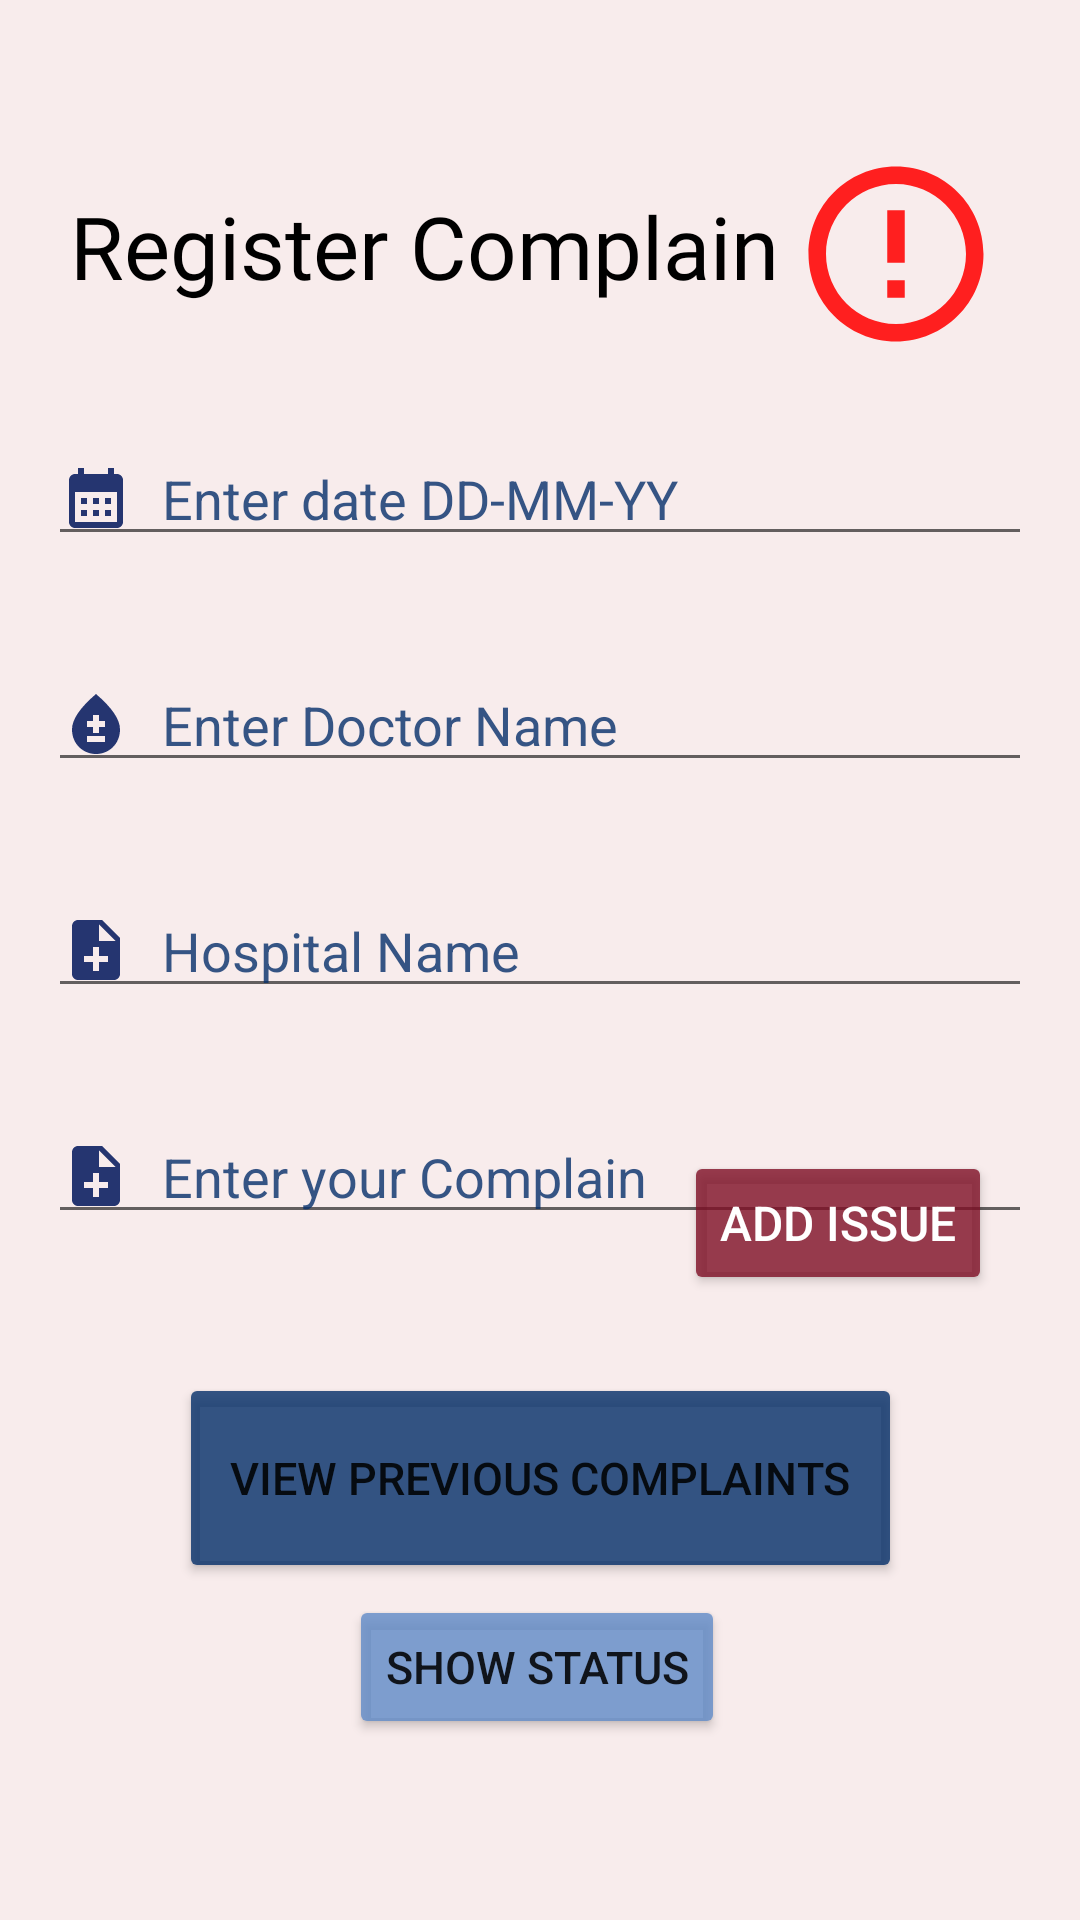

Icon bounding boxes for this 1080w x 1920h phone screenshot, format (x1, y1, x2, y2):
error: (808, 166, 984, 342)
